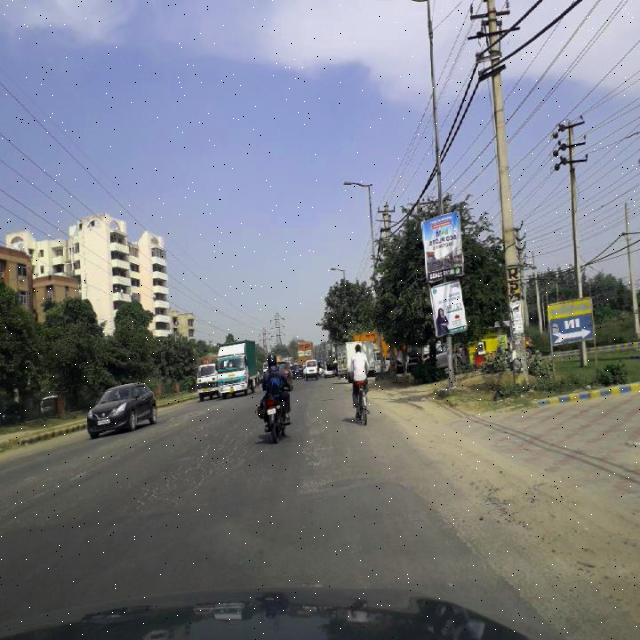D20: (143, 436, 241, 506)
